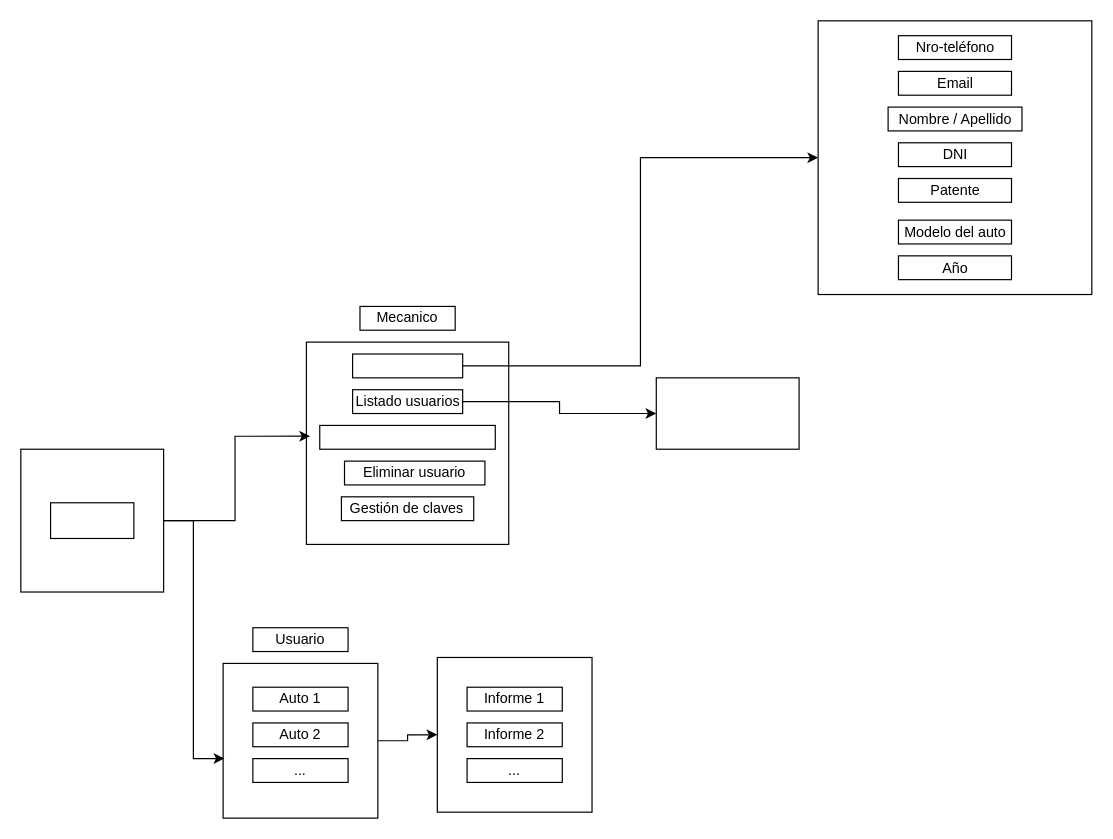
Some shapes in this 1113 by 839 pixel diagram are drawn without their labels. The centre of each missing label's shape, as x and y in pixels:
"Añadir usuario" belongs at (x=407, y=365).
"Gestión de usuarios" belongs at (x=407, y=436).
"Hacer clic en un usuario o en un cuadro de búsqueda" belongs at (x=727, y=413).
"Login" belongs at (x=91, y=520).
